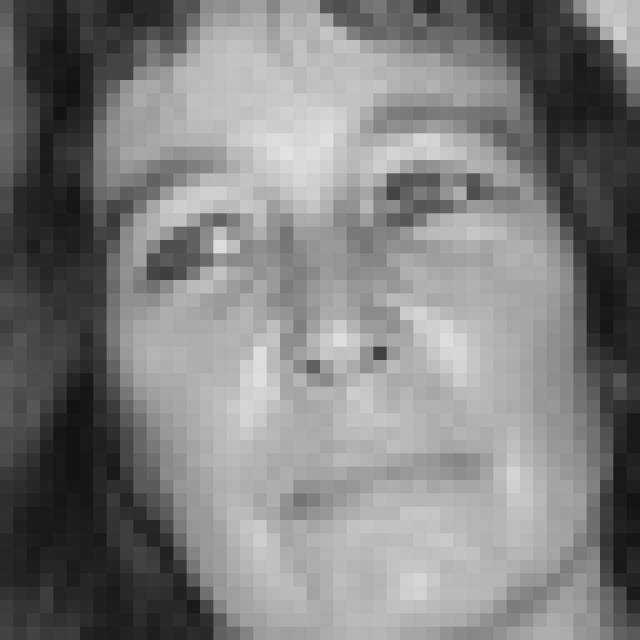sad: (101, 93, 534, 538)
